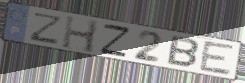2: (134, 31, 165, 64)
B: (165, 34, 201, 69)
E: (198, 40, 237, 77)
H: (60, 14, 101, 55)
Z: (27, 11, 65, 46), (99, 23, 132, 58)
